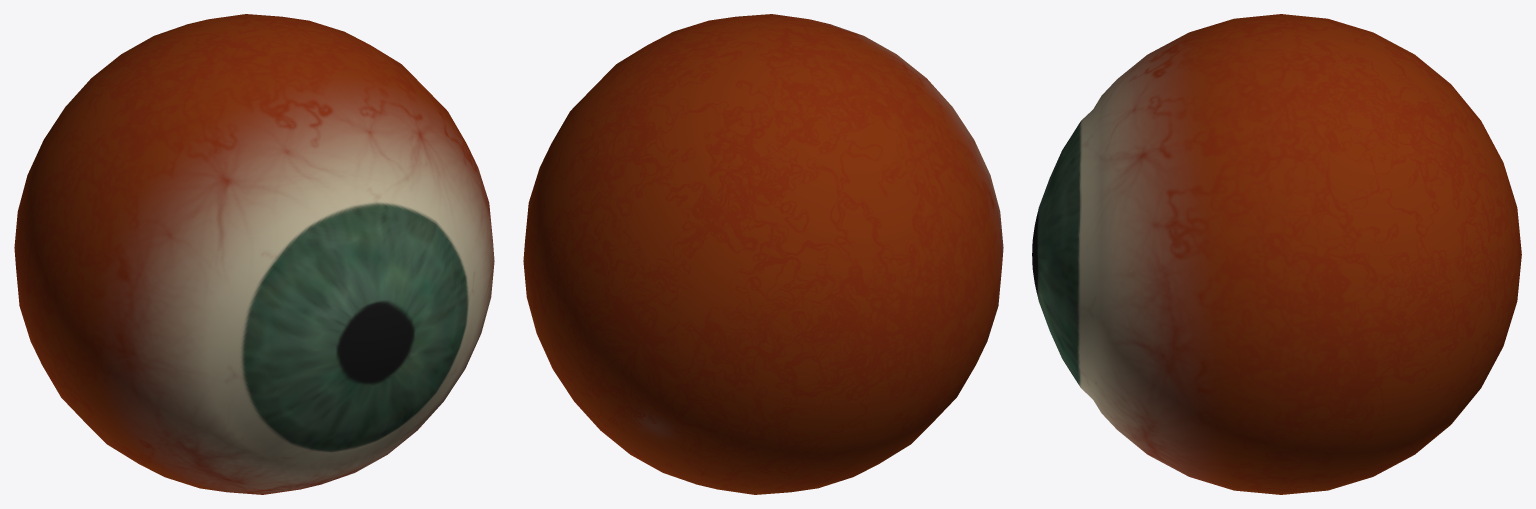
File: eye.gltf
The picture shows the model from 3 angles, left to right: view 1: azimuth 30°, elevation 25°; view 2: azimuth 150°, elevation 25°; view 3: azimuth 270°, elevation 25°; orthographic projection.
Visible parts, largest first — view 1: Eye_LP_0; view 2: Eye_LP_0; view 3: Eye_LP_0.
Boxes of the visible parts, box(x1,y1,x2,y2) form: Eye_LP_0: box(14, 14, 494, 494); Eye_LP_0: box(523, 14, 1003, 494); Eye_LP_0: box(1032, 14, 1521, 494).
Size of the model in its own units: 2 by 2 by 2.03.
1 material, 1 textured.
